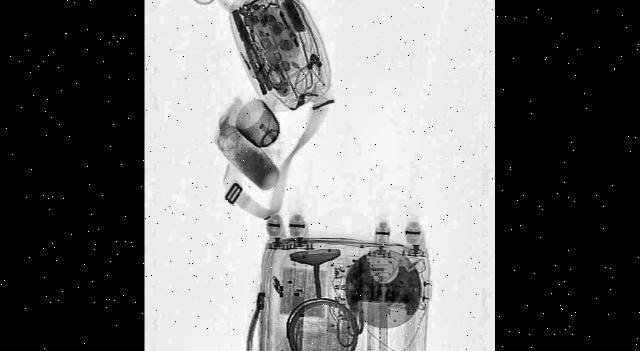Pliers: (230, 1, 274, 100)
